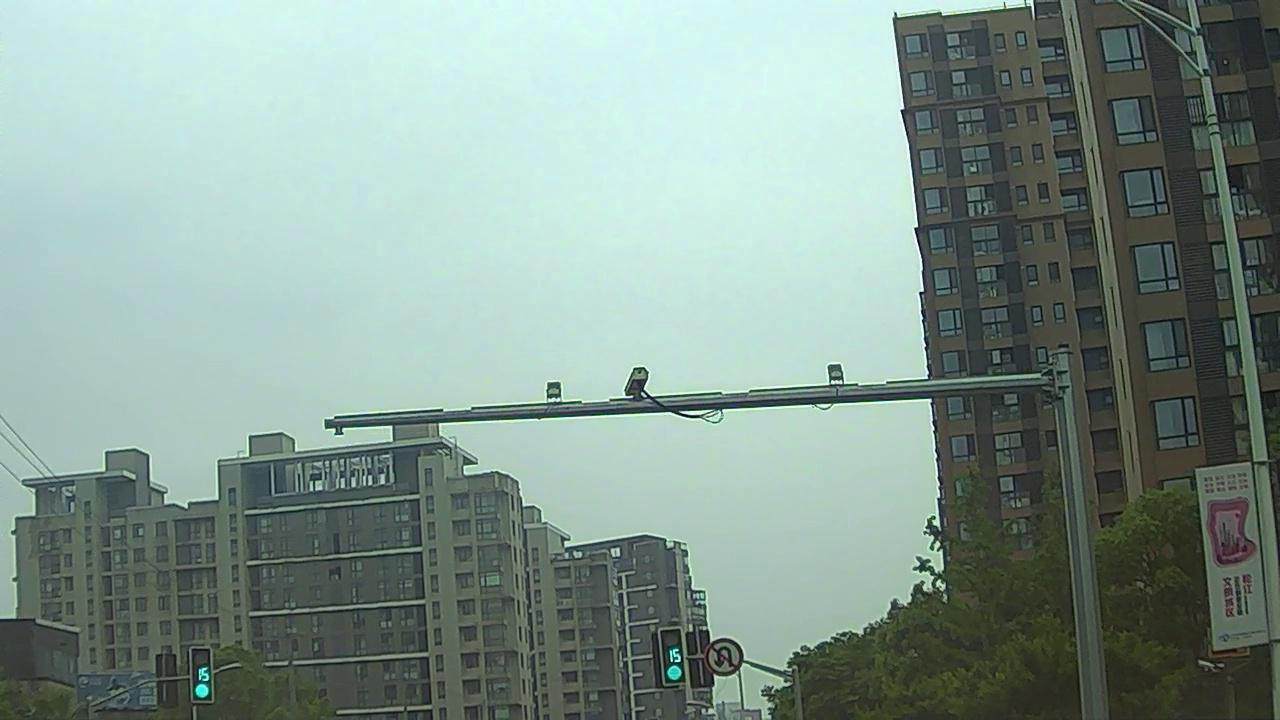traffic_light: (660, 630, 686, 684), (192, 647, 213, 704)
